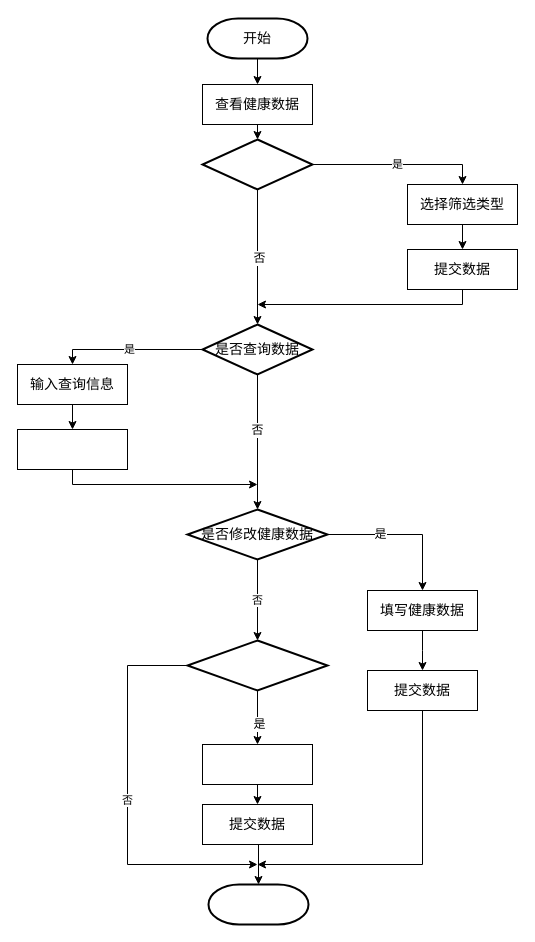
This 535x942 diagram has some shape labels left out. Each missing label, with the centre of its shape:
提交: point (72, 449)
是否删除健康数据: point (257, 665)
是否筛选数据: point (257, 164)
结束: point (258, 904)
选中健康数据: point (257, 764)
